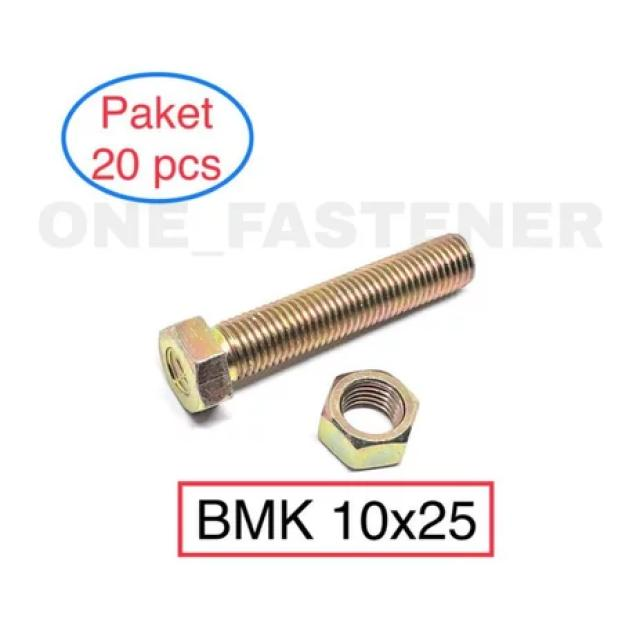Logam: (91, 225, 536, 469)
